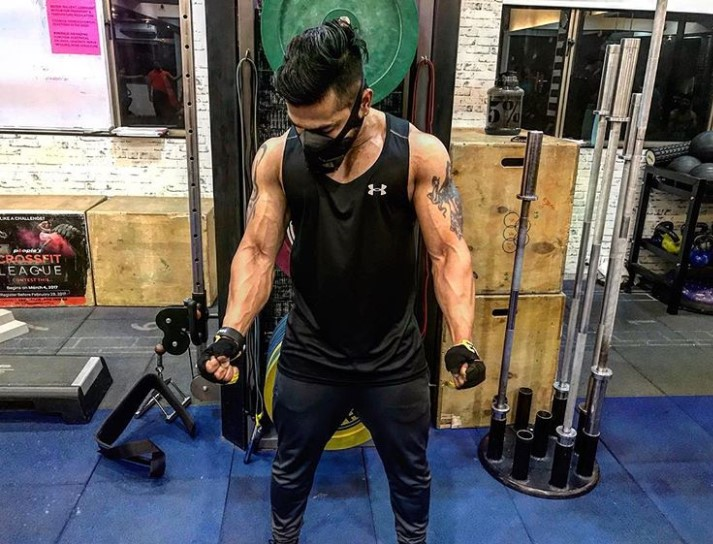face_with_mask: (276, 33, 378, 177)
